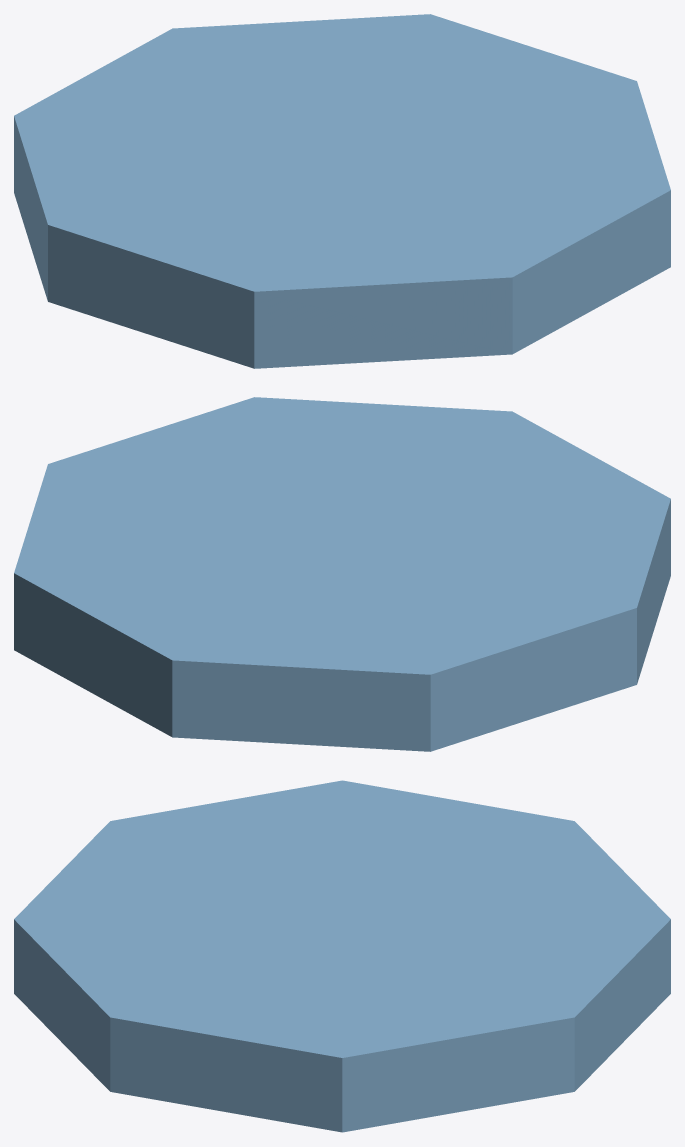
File: Building_Pool.fbx
3 renders of one model, top to bottom at view 1: azimuth 30°, elevation 25°; view 2: azimuth 150°, elevation 25°; view 3: azimuth 270°, elevation 25°, orthographic. The views are drawn at different scales.
Parts seen in each view (by area): view 1: Pool; view 2: Pool; view 3: Pool.
Part boxes in pixels (box(x1,y1,x2,y2)): Pool: box(14, 14, 670, 368); Pool: box(14, 397, 670, 751); Pool: box(14, 780, 670, 1132).
Size of the model in its own units: 2.4 by 0.3 by 2.4.
